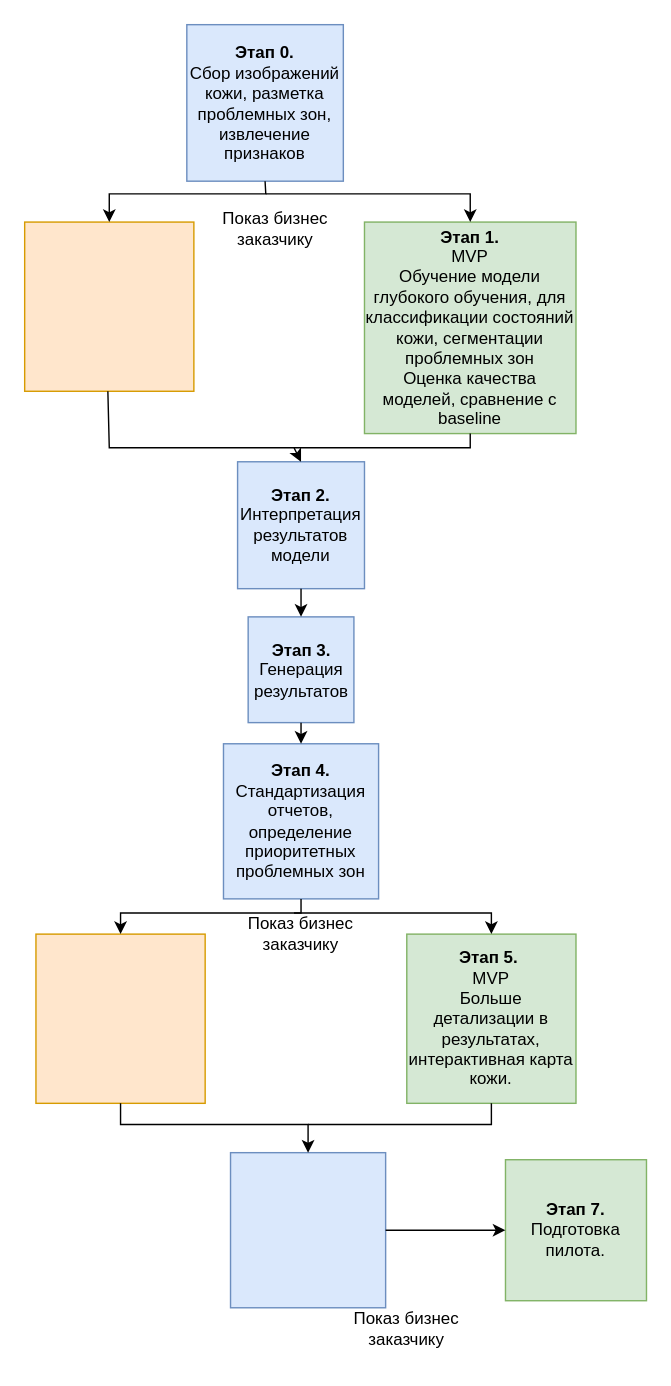
This 671x1386 diagram has some shape labels left out. Each missing label, with the centre of its shape:
"Этап 1. Baseline Увеличение контрастности, базовое выделение областей кожи" goes at point 108,306.
"Этап 5. Baseline Простое наложение маркеров на изображение" goes at point 120,1018.
"Этап 6. Визуальное представление проблемных зон, статистика проблем и тд." goes at point 307,1229.
